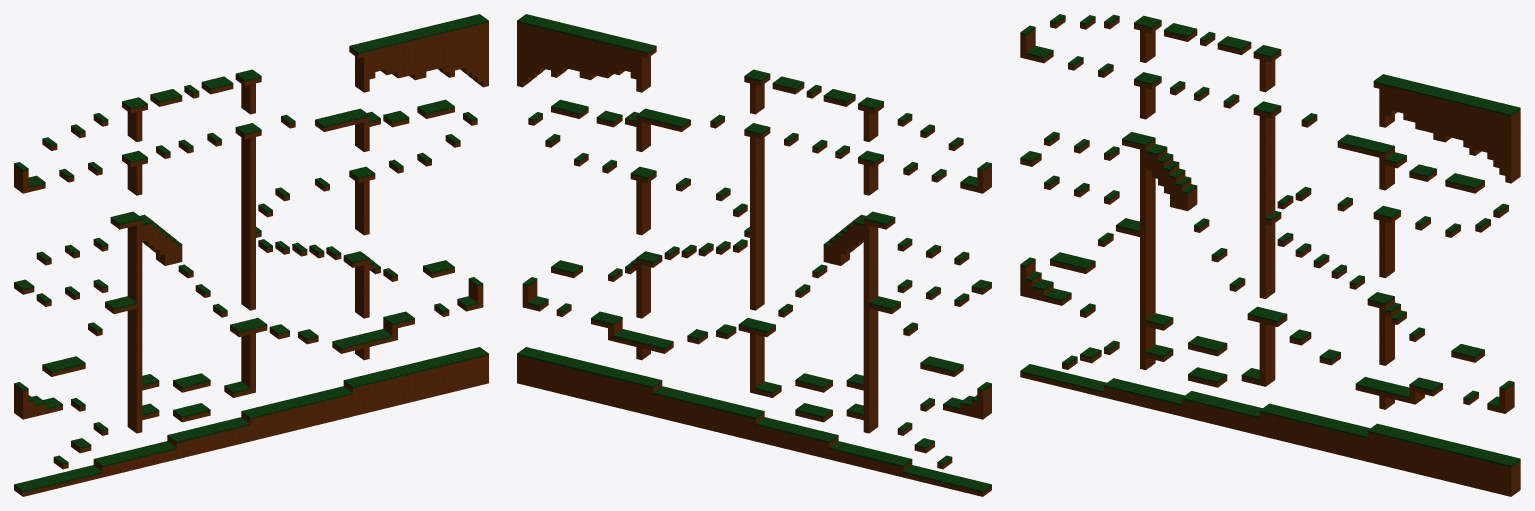
File: Luna0TwilightSoloOriginalV2.glb
3 views of the same model, side by side, from view 1: azimuth 30°, elevation 25°; view 2: azimuth 150°, elevation 25°; view 3: azimuth 330°, elevation 25° (orthographic). The views are drawn at different scales.
Parts seen in each view (by area): view 1: Setor_1, Setor_0, Setor_2; view 2: Setor_1, Setor_0, Setor_2; view 3: Setor_1, Setor_0, Setor_2.
Boxes of the visible parts, bbox=[...] form: Setor_1: bbox=[195, 39, 386, 452]; Setor_0: bbox=[14, 85, 204, 496]; Setor_2: bbox=[378, 14, 488, 407]; Setor_1: bbox=[619, 39, 810, 452]; Setor_0: bbox=[801, 85, 991, 496]; Setor_2: bbox=[517, 14, 627, 407]; Setor_1: bbox=[1211, 36, 1412, 470]; Setor_0: bbox=[1020, 14, 1220, 423]; Setor_2: bbox=[1403, 81, 1520, 496].
Bounding box in the file's own units: 85.28 × 63.44 × 2.88.
Materials: 1 (1 with a texture image).
